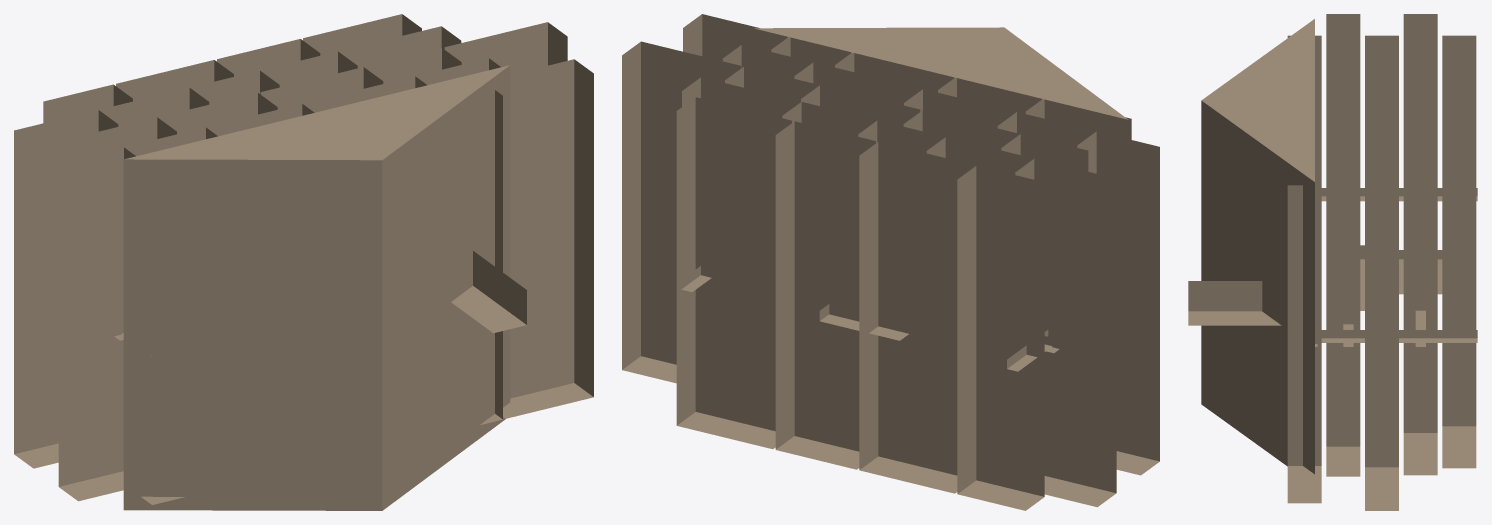
Rendered from magic_shop.glb.
3 views of the same model, side by side, from view 1: azimuth 30°, elevation 25°; view 2: azimuth 150°, elevation 25°; view 3: azimuth 270°, elevation 25° (orthographic). The views are drawn at different scales.
Visible parts, largest first — view 1: world; view 2: world; view 3: world.
Boxes of the visible parts, <box> form: world: <box>14,14,593,510</box>; world: <box>622,14,1159,510</box>; world: <box>1188,14,1477,510</box>.
Size of the model in its own units: 9.92 by 6.5 by 5.6.
